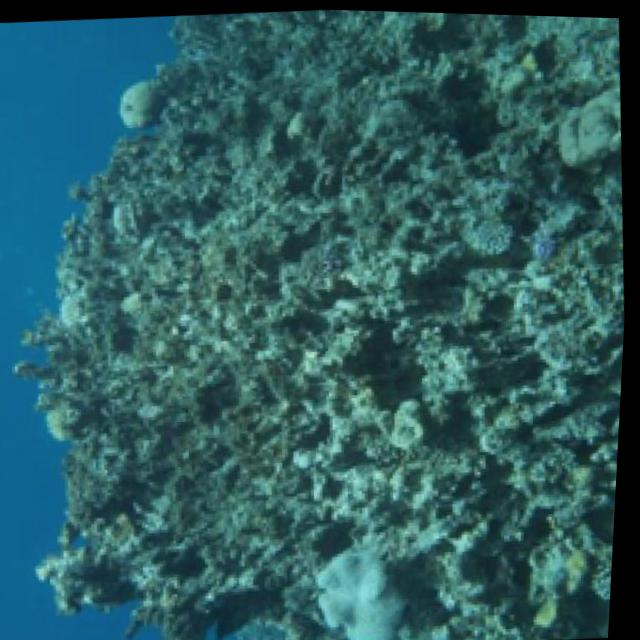Dead Coral: (15, 1, 640, 530), (385, 306, 628, 607), (53, 511, 295, 623), (307, 525, 428, 640)
